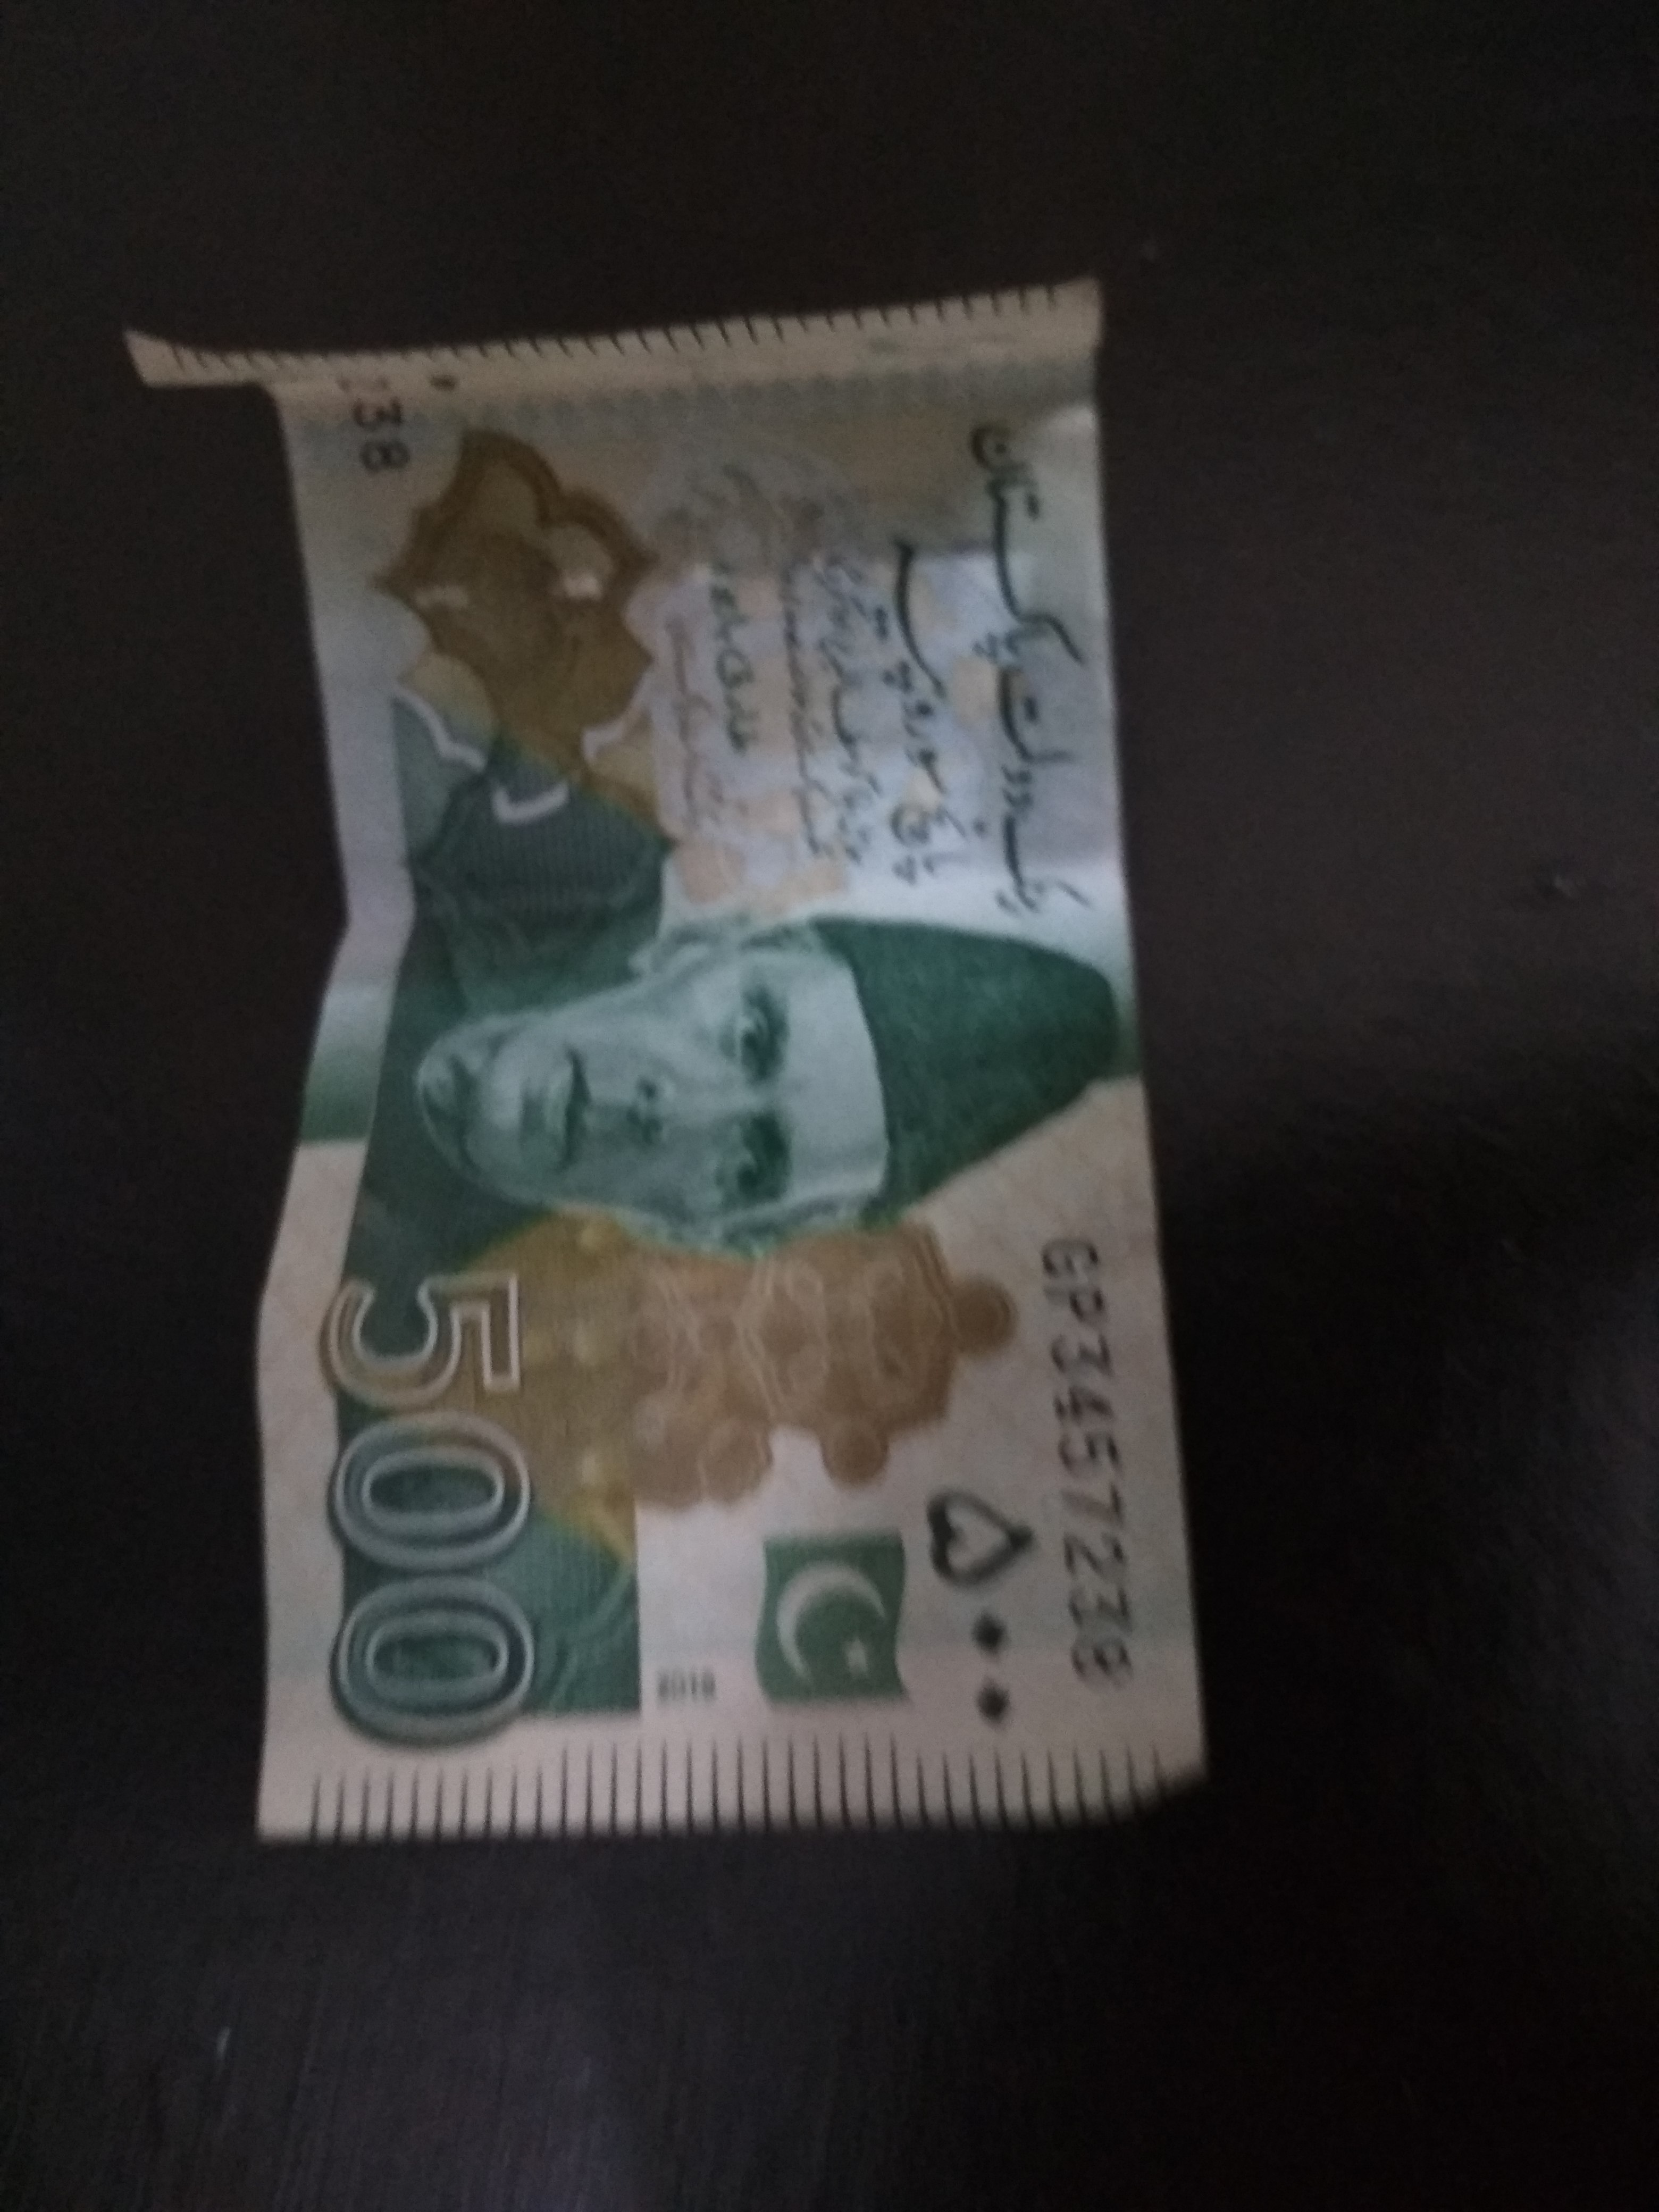500 rupee: (71, 277, 1225, 1996)
